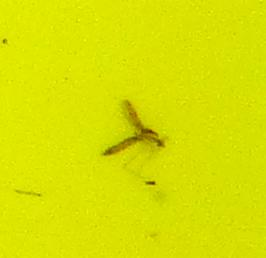Nematocera: (100, 100, 166, 158)
